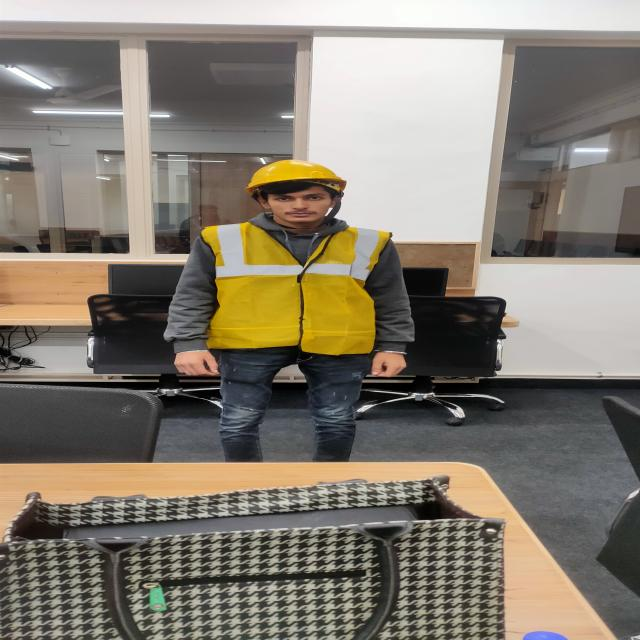safe: (170, 158, 410, 462)
